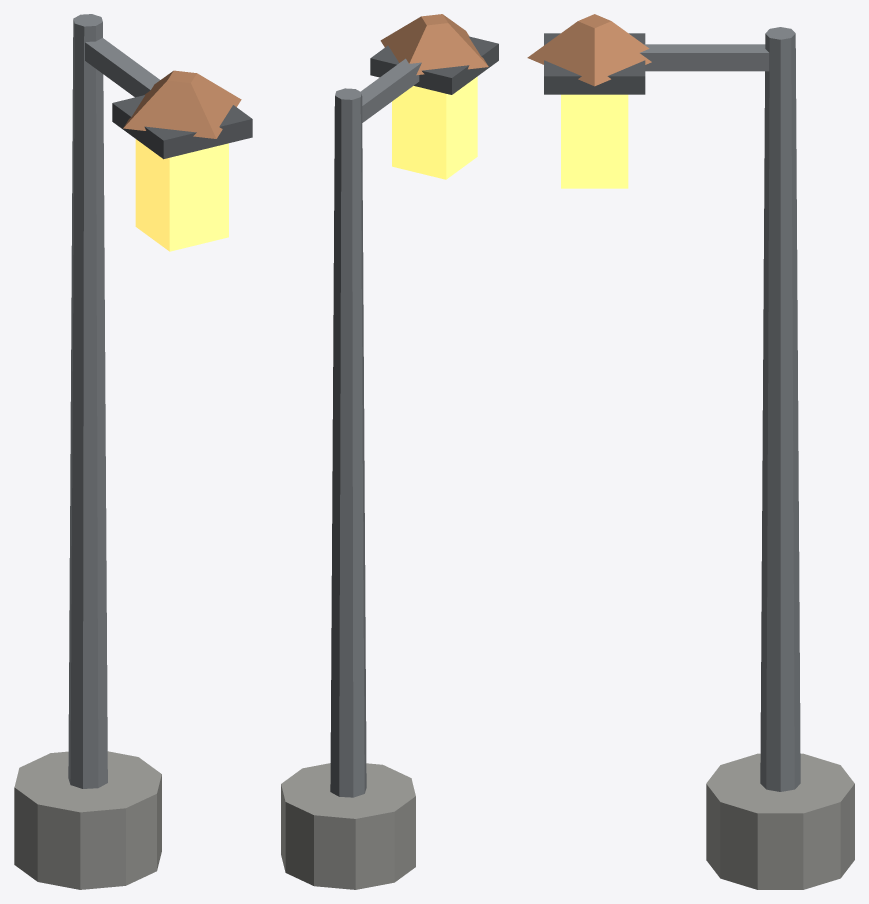
The model's file is lamp.glb.
3 views of the same model, side by side, from view 1: azimuth 30°, elevation 25°; view 2: azimuth 150°, elevation 25°; view 3: azimuth 270°, elevation 25° (orthographic). The views are drawn at different scales.
Visible parts, largest first — view 1: lamp; view 2: lamp; view 3: lamp.
Boxes of the visible parts, x1=… form: lamp: x1=14, y1=14, x2=252, y2=889; lamp: x1=281, y1=14, x2=498, y2=889; lamp: x1=527, y1=14, x2=854, y2=889.
Bounding box in the file's own units: 0.4185 × 2.74 × 0.97.
